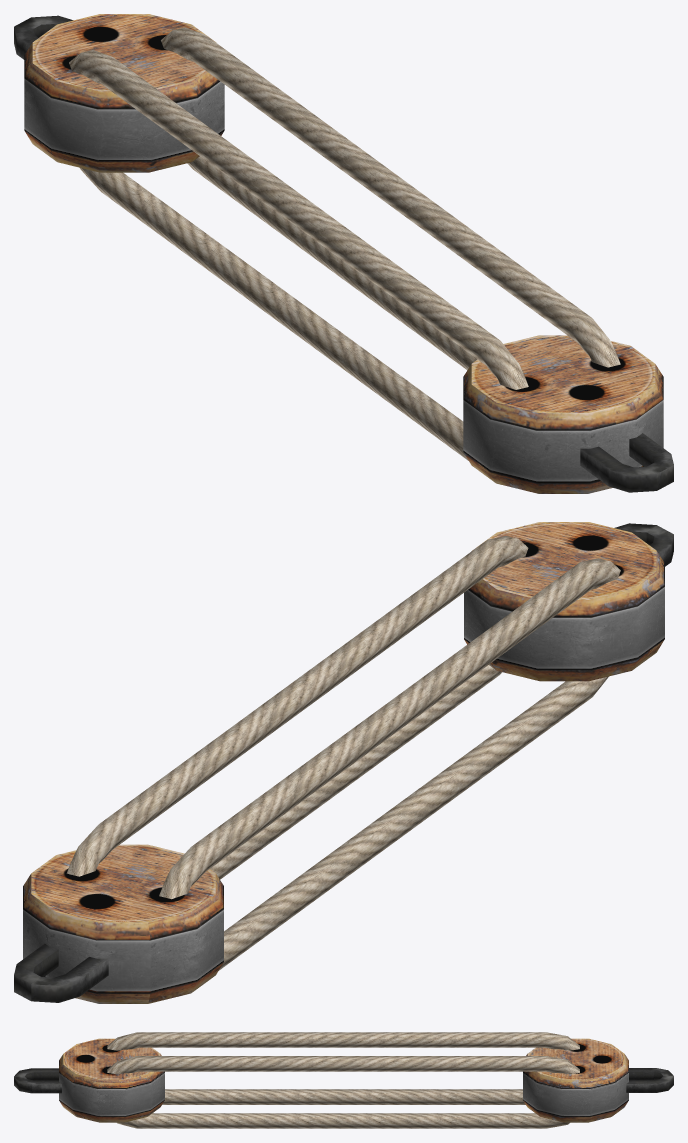
File: Four Rope Lanyard.fbx
3 renders of one model, top to bottom at view 1: azimuth 30°, elevation 25°; view 2: azimuth 150°, elevation 25°; view 3: azimuth 270°, elevation 25°, orthographic. The views are drawn at different scales.
Parts seen in each view (by area): view 1: Four Rope Lanyard, Deadeye Start, Deadeye End; view 2: Four Rope Lanyard, Deadeye End, Deadeye Start; view 3: Four Rope Lanyard, Deadeye Start, Deadeye End.
Part boxes in pixels (left/top/right/bottom): Four Rope Lanyard: left=69, top=27, right=620, bottom=460; Deadeye Start: left=463, top=335, right=673, bottom=493; Deadeye End: left=14, top=14, right=224, bottom=172; Four Rope Lanyard: left=66, top=536, right=620, bottom=970; Deadeye End: left=14, top=844, right=223, bottom=1003; Deadeye Start: left=464, top=522, right=673, bottom=681; Four Rope Lanyard: left=107, top=1032, right=579, bottom=1128; Deadeye Start: left=14, top=1038, right=164, bottom=1122; Deadeye End: left=523, top=1038, right=673, bottom=1122.
Size of the model in its own units: 19.81 by 123 by 14.33.
Materials: 2 (2 with a texture image).
